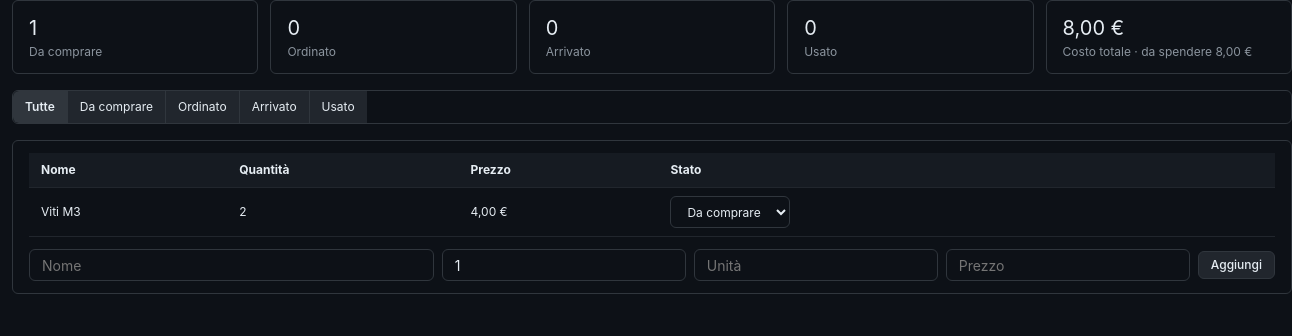
Test case: MaterialsTab › refuses a zero quantity with a visible message and sends nothing
Check: the text "Viti M3" is shown, box [29,188,227,236]
Step 1. Type "Chiodi" into the field labelled "Nome" → (231, 265), box [29,249,434,281]
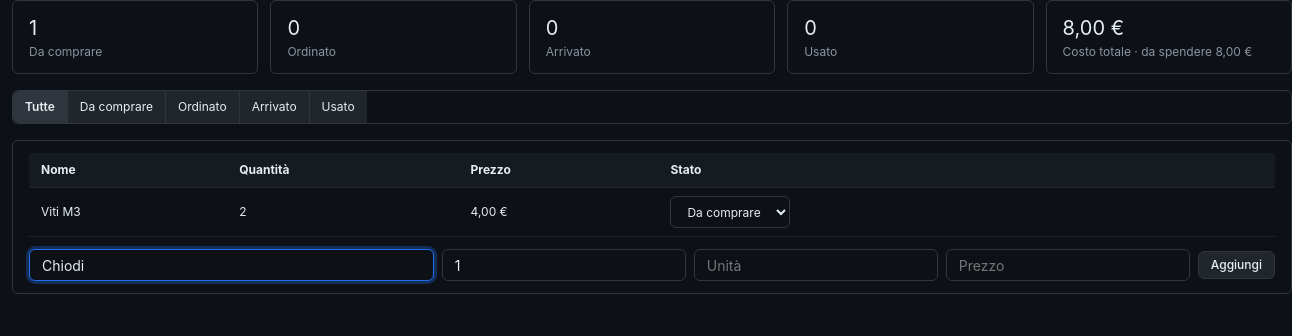
Step 2. Replace the text in the 2nd field named "Quantità" with "0" → (564, 265), box [442,249,686,281]
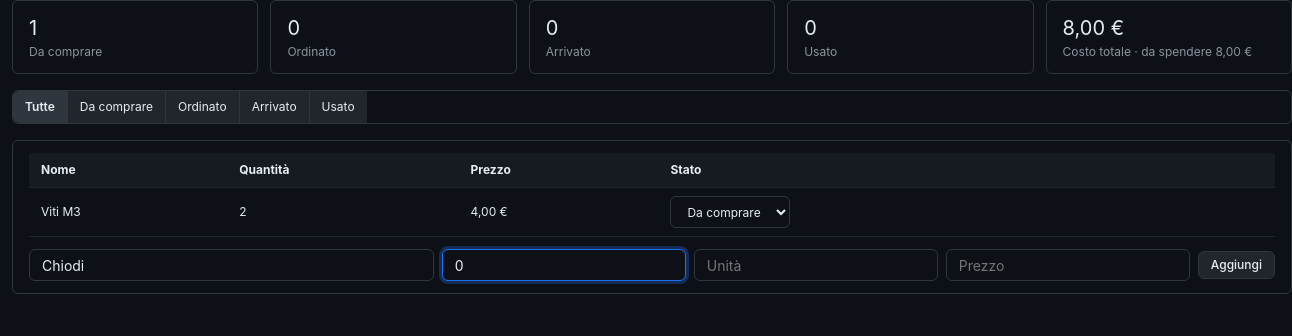
Step 3. Click the button "Aggiungi" → (1236, 265), box [1198,251,1275,279]
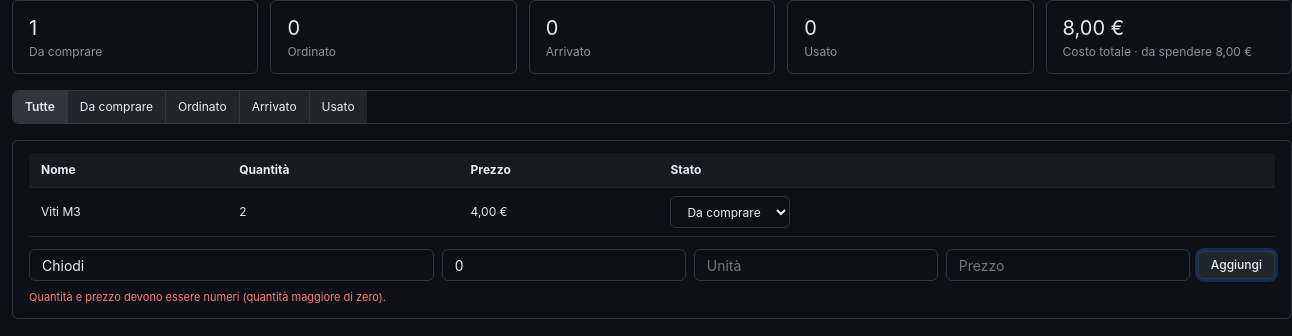
Check: the text "Quantità e prezzo devono essere numeri (quantità maggiore di zero)." is shown, box [29,289,386,306]
